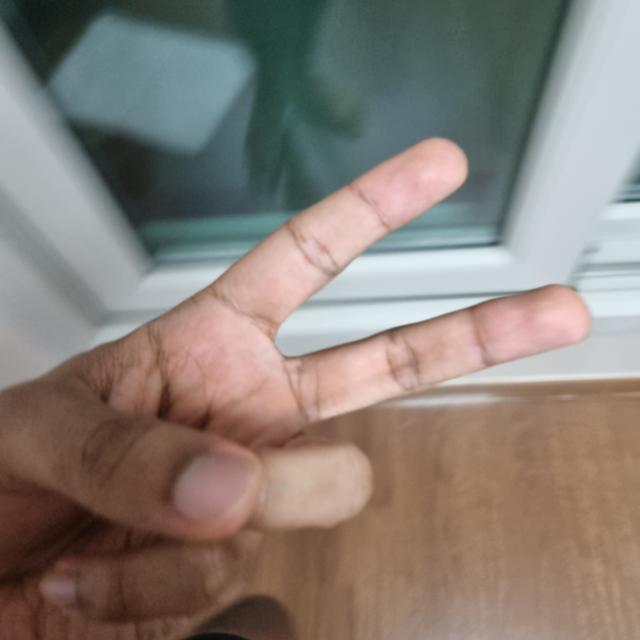Scissors: (0, 139, 600, 640)
